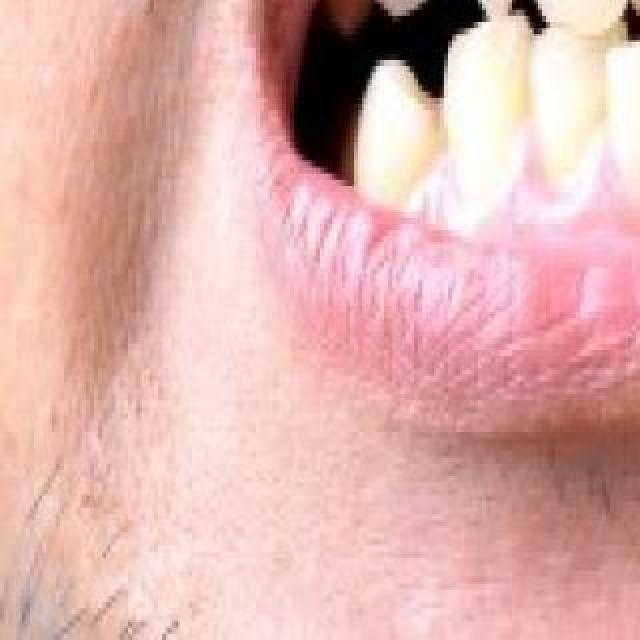maligned: (525, 31, 629, 199), (596, 18, 640, 208), (494, 0, 640, 16), (418, 0, 528, 16), (614, 0, 640, 28)
